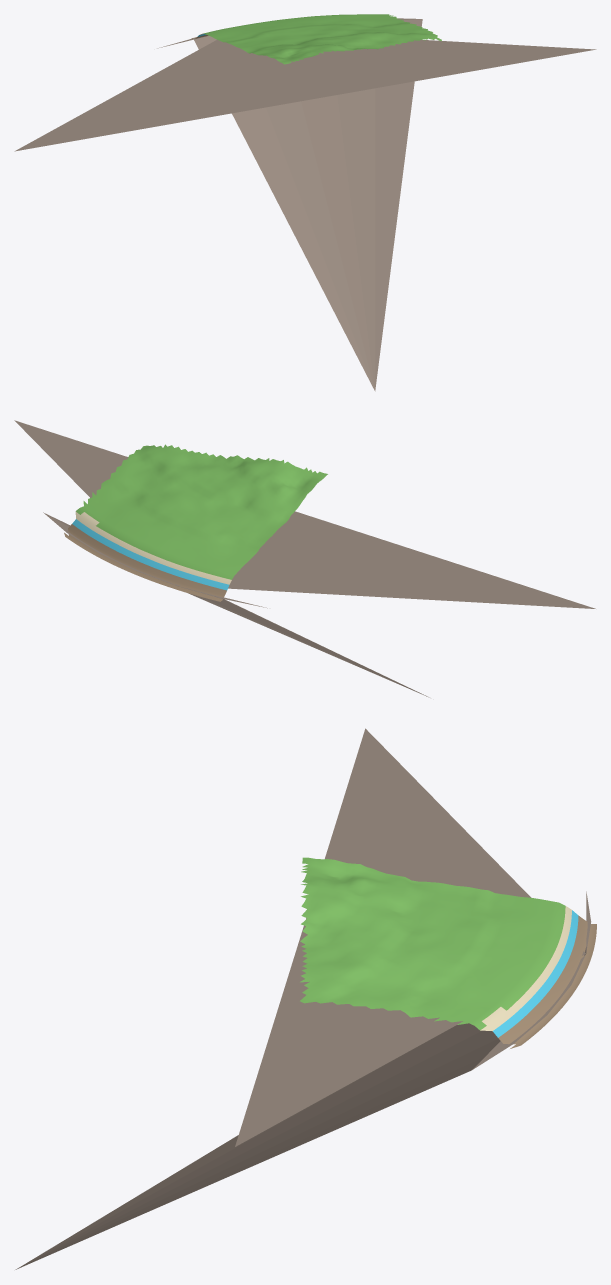
Rendered from flagship_terrain_10.glb.
3 renders of one model, top to bottom at view 1: azimuth 30°, elevation 25°; view 2: azimuth 150°, elevation 25°; view 3: azimuth 270°, elevation 25°, orthographic. The views are drawn at different scales.
Parts seen in each view (by area): view 1: Terrain_10; view 2: Terrain_10; view 3: Terrain_10.
Boxes of the visible parts, bbox=[...] form: Terrain_10: bbox=[14, 14, 596, 391]; Terrain_10: bbox=[14, 420, 595, 697]; Terrain_10: bbox=[15, 728, 596, 1269].
Size of the model in its own units: 206 by 95.47 by 121.
